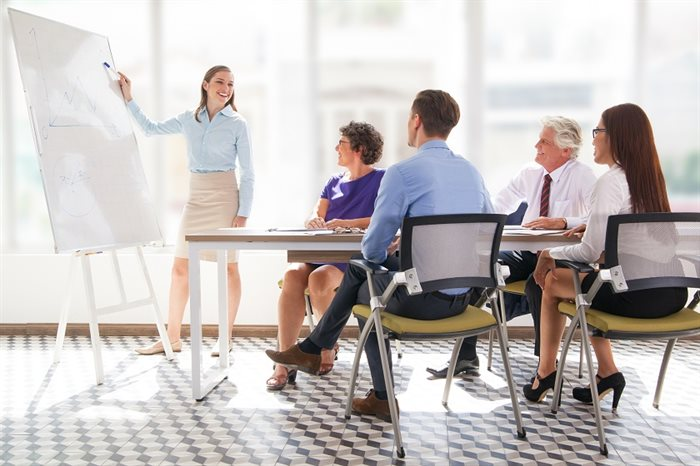Person: (102, 62, 258, 354), (386, 85, 489, 320), (582, 96, 674, 341), (523, 112, 579, 238)
